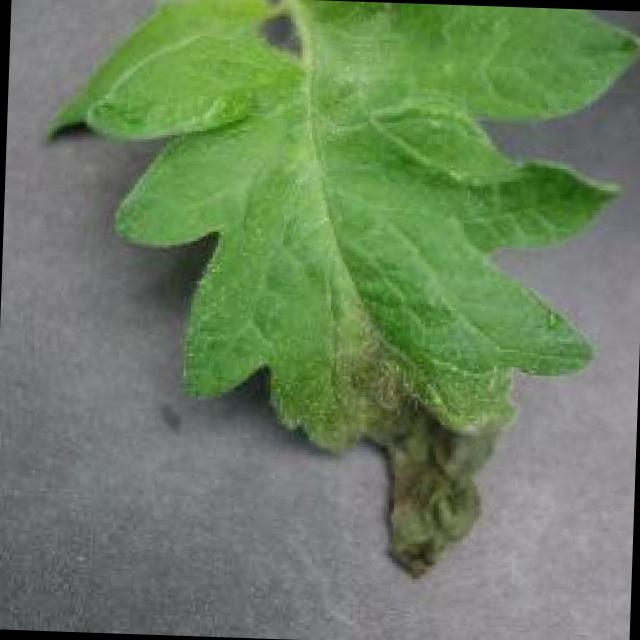Tomato_Late_Blight: (286, 304, 518, 587)
